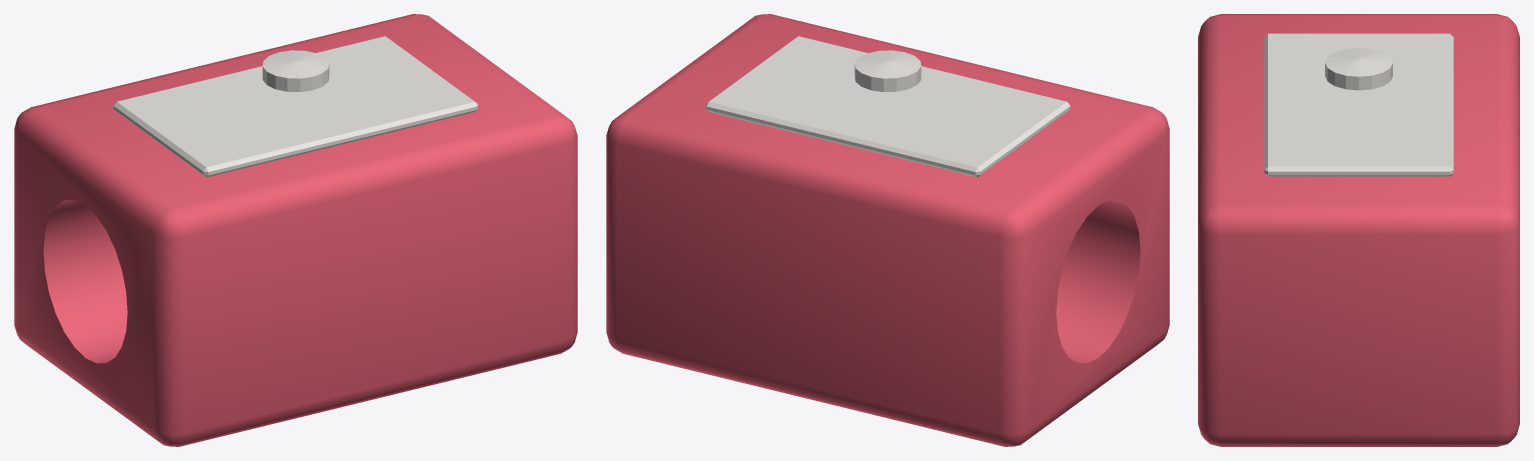
The model's file is sharpener.glb.
3 views of the same model, side by side, from view 1: azimuth 30°, elevation 25°; view 2: azimuth 150°, elevation 25°; view 3: azimuth 270°, elevation 25° (orthographic).
Visible parts, largest first — view 1: Sharpener; view 2: Sharpener; view 3: Sharpener.
Part boxes in pixels (x1,y1,x2,y2): Sharpener: (14, 14, 577, 446); Sharpener: (606, 14, 1169, 446); Sharpener: (1198, 14, 1519, 446).
Size of the model in its own units: 0.26 by 0.17 by 0.17.
